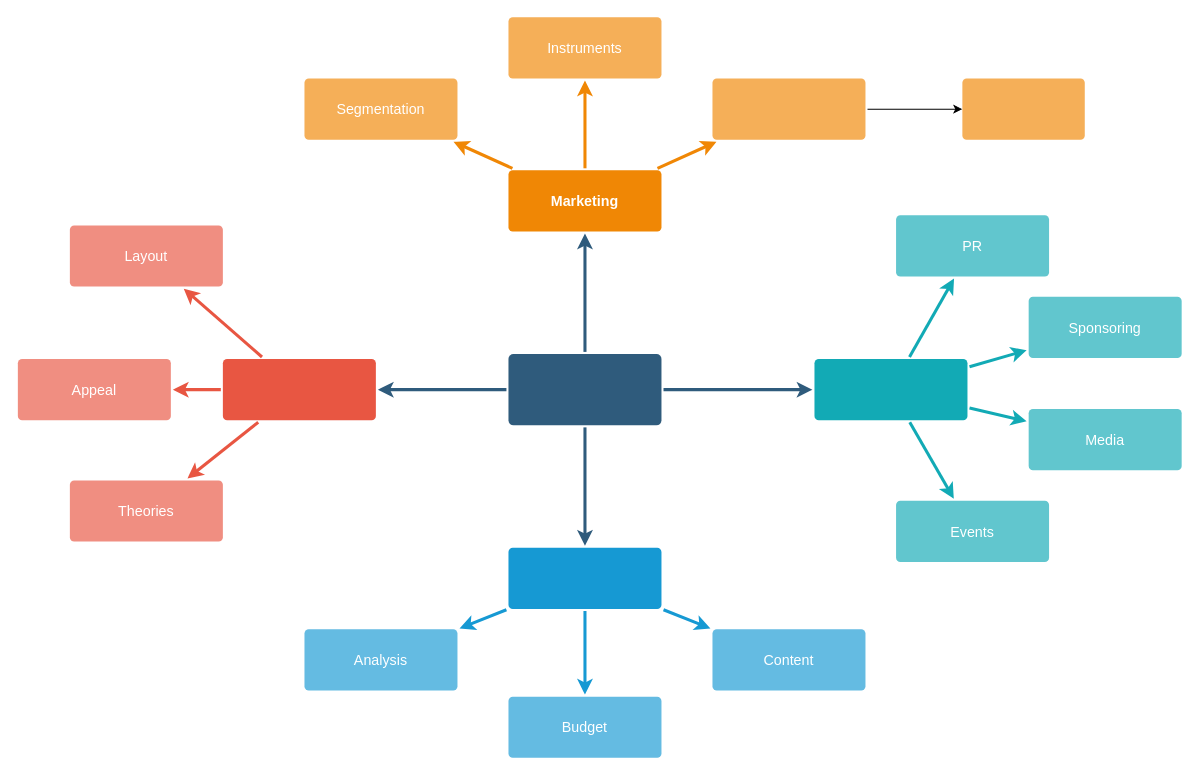
This 1199x775 diagram has some shape labels left out. Each missing label, with the box of its shape:
Aims: (712, 78, 865, 139)
Communication: (814, 359, 967, 420)
Embassy: (222, 359, 375, 420)
Organization: (508, 547, 661, 608)
表达能力: (508, 353, 661, 425)
